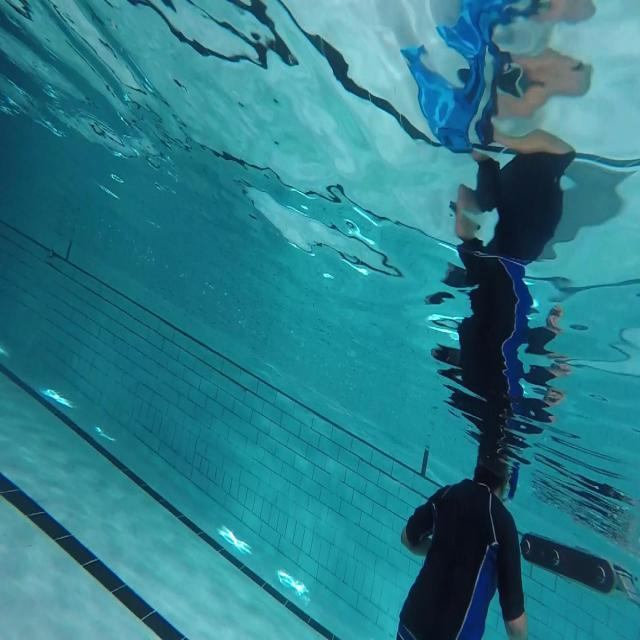human: (395, 436, 528, 638)
